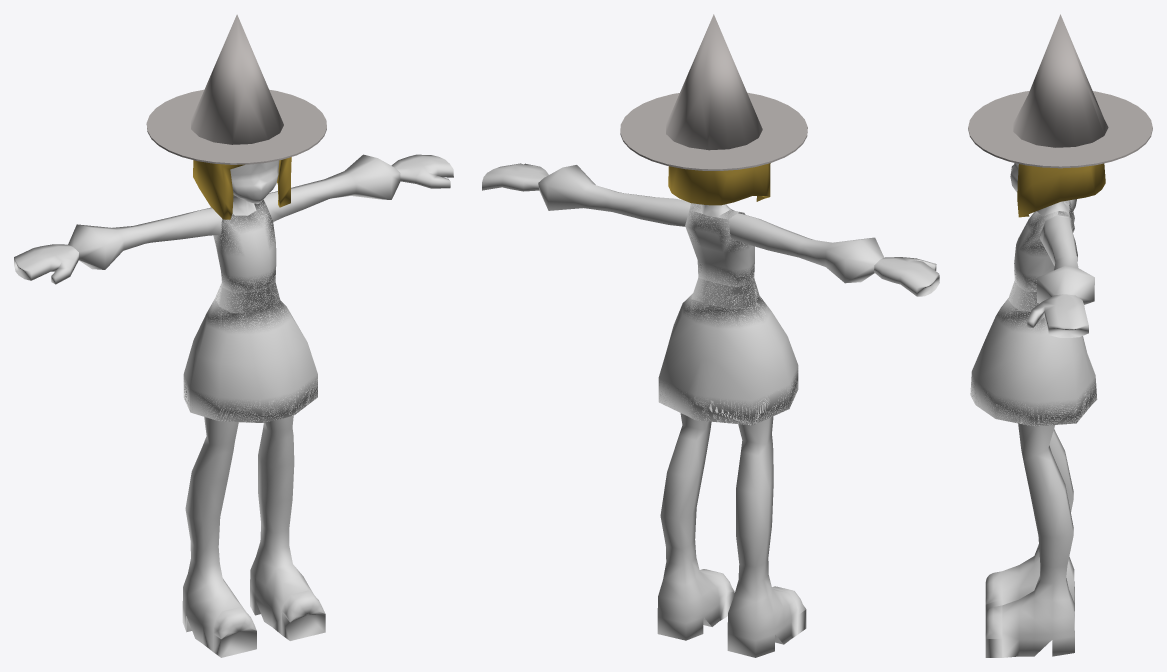
File: bruxinhaar.fbx
3 views of the same model, side by side, from view 1: azimuth 30°, elevation 25°; view 2: azimuth 150°, elevation 25°; view 3: azimuth 270°, elevation 25° (orthographic). The views are drawn at different scales.
Visible parts, largest first — view 1: KeyframeChef_LowPoly_Base, KeyframeChef_LowPoly_Base.003, KeyframeChef_LowPoly_Base.002, Cylinder, Cone, KeyframeChef_LowPoly_Base.001, Plane; view 2: KeyframeChef_LowPoly_Base, KeyframeChef_LowPoly_Base.003, KeyframeChef_LowPoly_Base.002, Cylinder, Cone, KeyframeChef_LowPoly_Base.001, Plane; view 3: KeyframeChef_LowPoly_Base, KeyframeChef_LowPoly_Base.003, Cylinder, Cone, Plane, KeyframeChef_LowPoly_Base.002, KeyframeChef_LowPoly_Base.001.
Boxes of the visible parts, x1=… form: KeyframeChef_LowPoly_Base: x1=14, y1=154, x2=453, y2=657; KeyframeChef_LowPoly_Base.003: x1=183, y1=282, x2=317, y2=422; KeyframeChef_LowPoly_Base.002: x1=68, y1=154, x2=400, y2=269; Cylinder: x1=146, y1=89, x2=326, y2=164; Cone: x1=191, y1=14, x2=283, y2=144; KeyframeChef_LowPoly_Base.001: x1=213, y1=200, x2=276, y2=292; Plane: x1=193, y1=157, x2=291, y2=219; KeyframeChef_LowPoly_Base: x1=482, y1=163, x2=939, y2=657; KeyframeChef_LowPoly_Base.003: x1=658, y1=277, x2=798, y2=425; KeyframeChef_LowPoly_Base.002: x1=538, y1=165, x2=883, y2=283; Cylinder: x1=620, y1=92, x2=807, y2=170; Cone: x1=666, y1=14, x2=762, y2=150; KeyframeChef_LowPoly_Base.001: x1=685, y1=203, x2=754, y2=287; Plane: x1=668, y1=163, x2=770, y2=205; KeyframeChef_LowPoly_Base: x1=985, y1=163, x2=1088, y2=657; KeyframeChef_LowPoly_Base.003: x1=970, y1=281, x2=1097, y2=426; Cylinder: x1=968, y1=91, x2=1152, y2=168; Cone: x1=1013, y1=14, x2=1108, y2=147; Plane: x1=1017, y1=163, x2=1105, y2=217; KeyframeChef_LowPoly_Base.002: x1=1036, y1=199, x2=1094, y2=304; KeyframeChef_LowPoly_Base.001: x1=1014, y1=200, x2=1074, y2=291.
Bounding box in the file's own units: 144 × 195 × 52.84.
4 materials, 3 textured.
